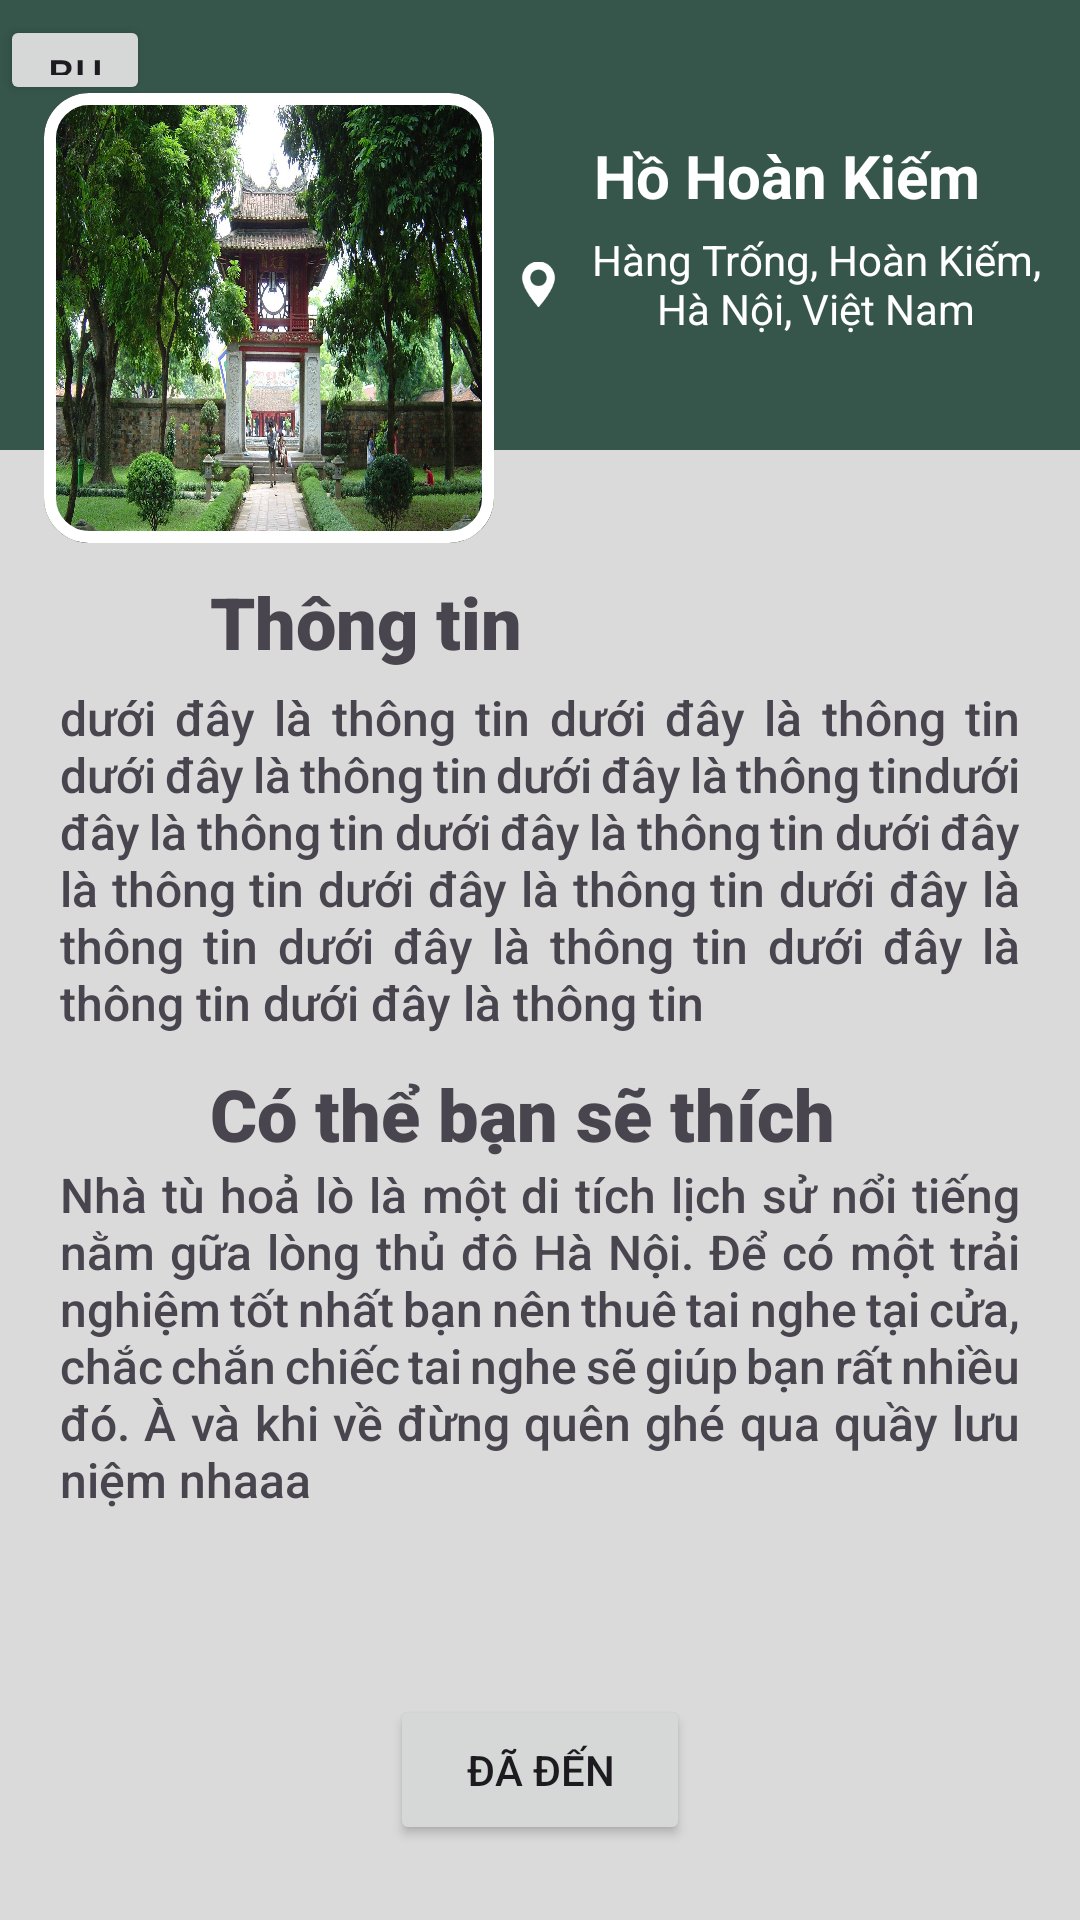

Icons on this 1080 x 1920 Android screen, each with the point to tap as [x,y]:
location: [538,284]
